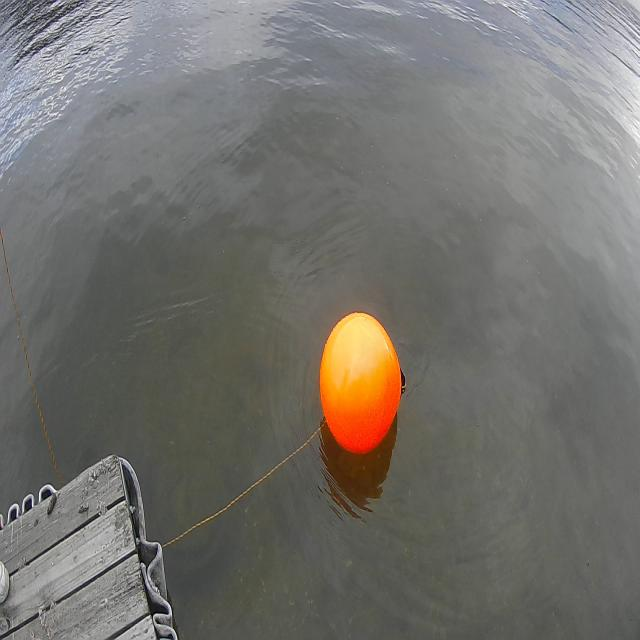Buoy: (317, 309, 405, 457)
